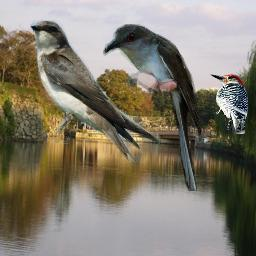Cuckoo: (103, 24, 205, 191)
Swallow: (30, 20, 160, 162)
Woodpecker: (208, 71, 250, 134)
